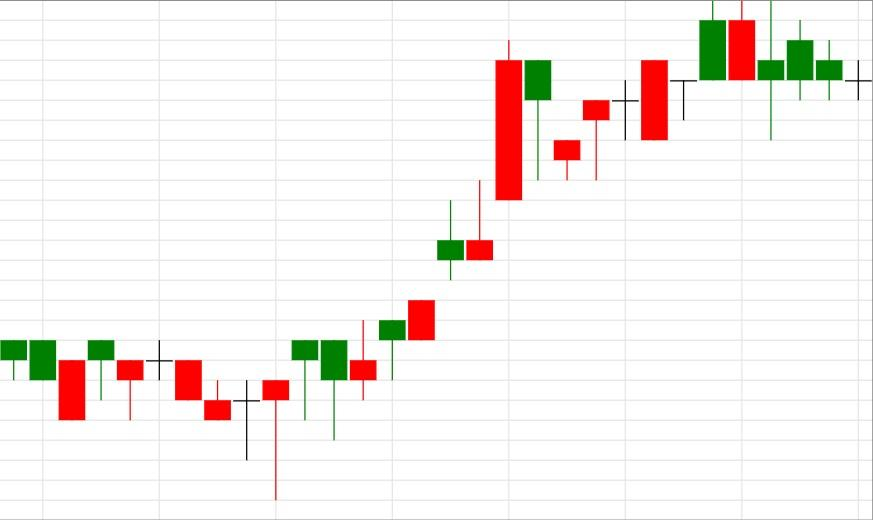hanging_man_fall: (319, 40, 552, 440)
